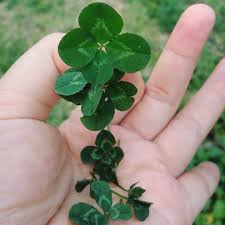4-clover: (59, 1, 151, 85), (81, 131, 126, 170)
